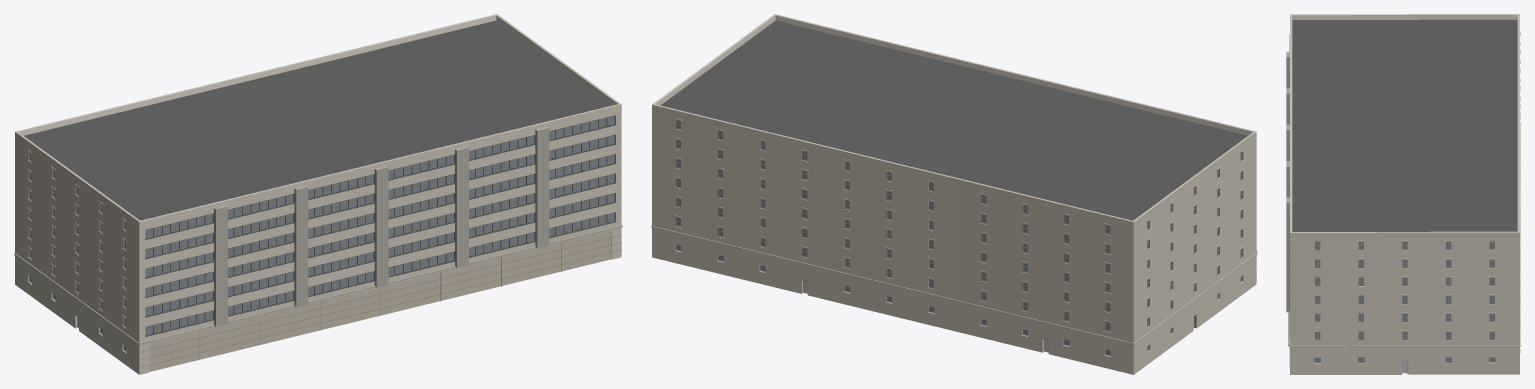
Rendered from exterior.glb.
3 views of the same model, side by side, from view 1: azimuth 30°, elevation 25°; view 2: azimuth 150°, elevation 25°; view 3: azimuth 270°, elevation 25° (orthographic). The views are drawn at different scales.
Visible parts, largest first — view 1: roof, shell, glazing, shadow-proxy, storefront, hand-ornament, frames, trim; view 2: shell, roof, trim, glazing, frames, shadow-proxy; view 3: roof, shell, trim, glazing, hand-ornament, shadow-proxy, frames.
Boxes of the visible parts, x1=… form: roof: x1=24, y1=20, x2=612, y2=220; shell: x1=15, y1=14, x2=621, y2=374; glazing: x1=28, y1=115, x2=614, y2=351; shadow-proxy: x1=30, y1=116, x2=614, y2=349; storefront: x1=75, y1=230, x2=611, y2=371; hand-ornament: x1=139, y1=126, x2=622, y2=367; frames: x1=28, y1=115, x2=615, y2=335; trim: x1=14, y1=124, x2=621, y2=353; shell: x1=652, y1=14, x2=1256, y2=374; roof: x1=661, y1=20, x2=1247, y2=220; trim: x1=651, y1=118, x2=1257, y2=357; glazing: x1=675, y1=120, x2=1242, y2=355; frames: x1=676, y1=120, x2=1242, y2=331; shadow-proxy: x1=677, y1=120, x2=1241, y2=355; roof: x1=1292, y1=19, x2=1517, y2=231; shell: x1=1290, y1=14, x2=1519, y2=374; trim: x1=1289, y1=32, x2=1520, y2=363; glazing: x1=1314, y1=241, x2=1495, y2=362; hand-ornament: x1=1286, y1=51, x2=1289, y2=367; shadow-proxy: x1=1314, y1=242, x2=1495, y2=373; frames: x1=1315, y1=241, x2=1494, y2=340.
Bounding box in the file's own units: 81.03 × 24.44 × 36.58.
